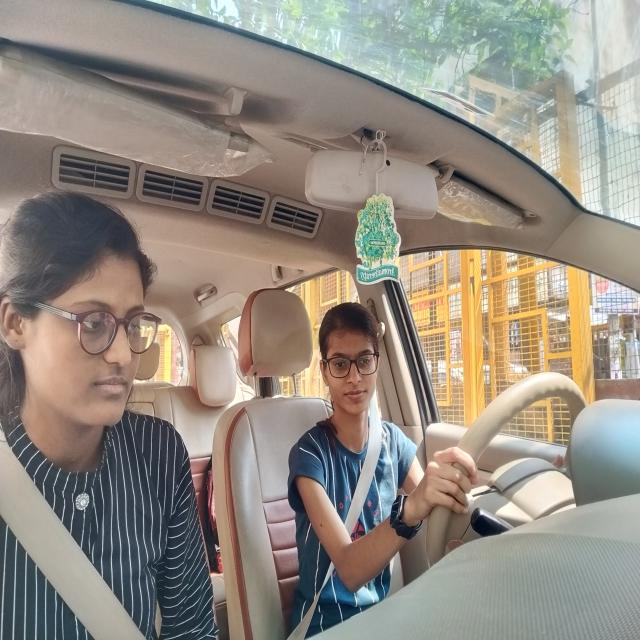person: (1, 189, 158, 439), (314, 302, 384, 419)
